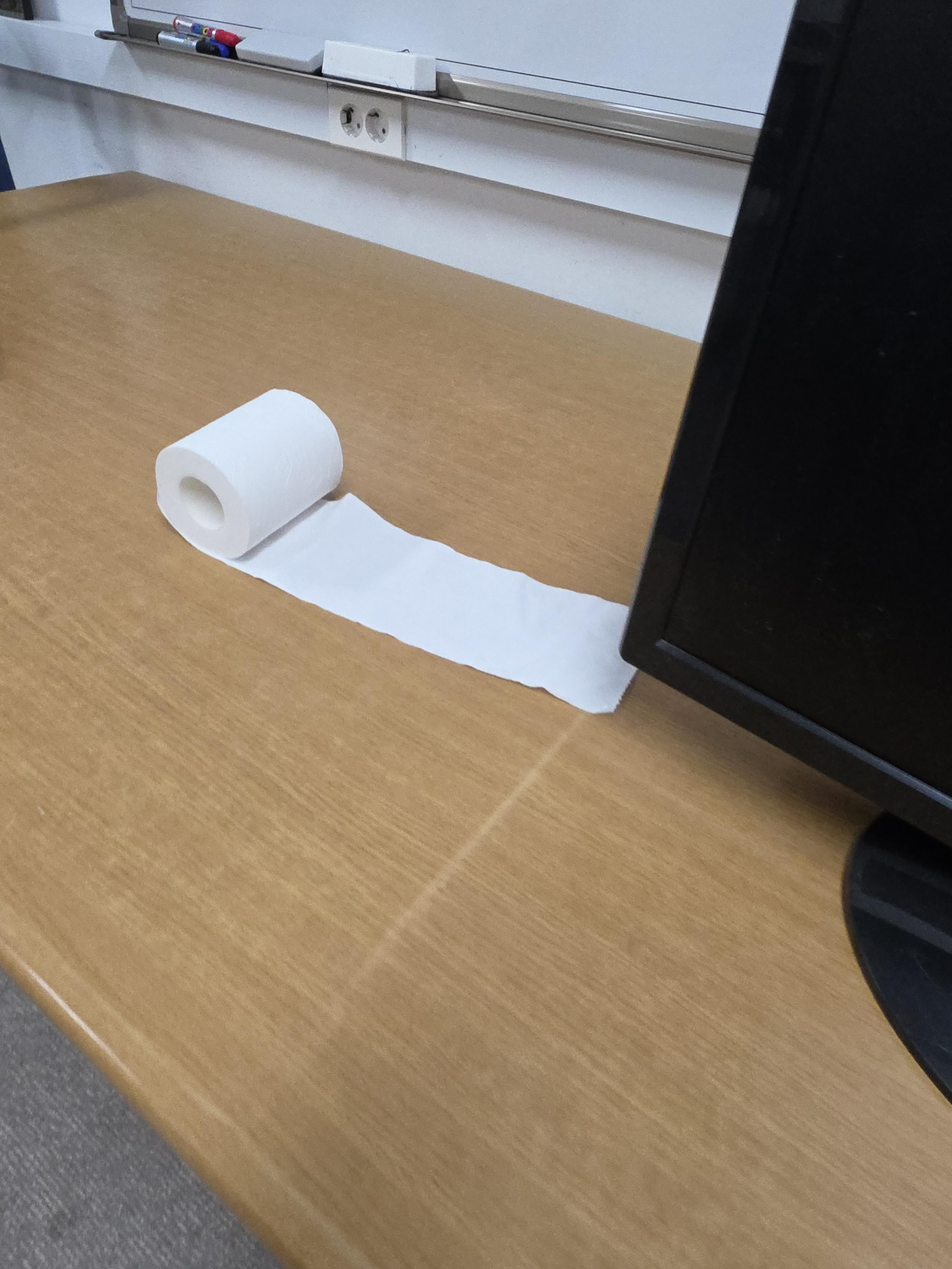tissue: (155, 388, 637, 714)
